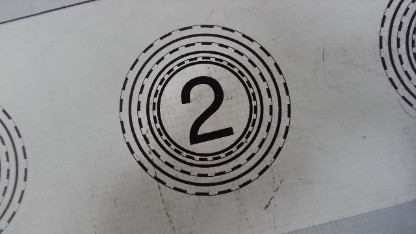2r: (116, 21, 292, 196)
